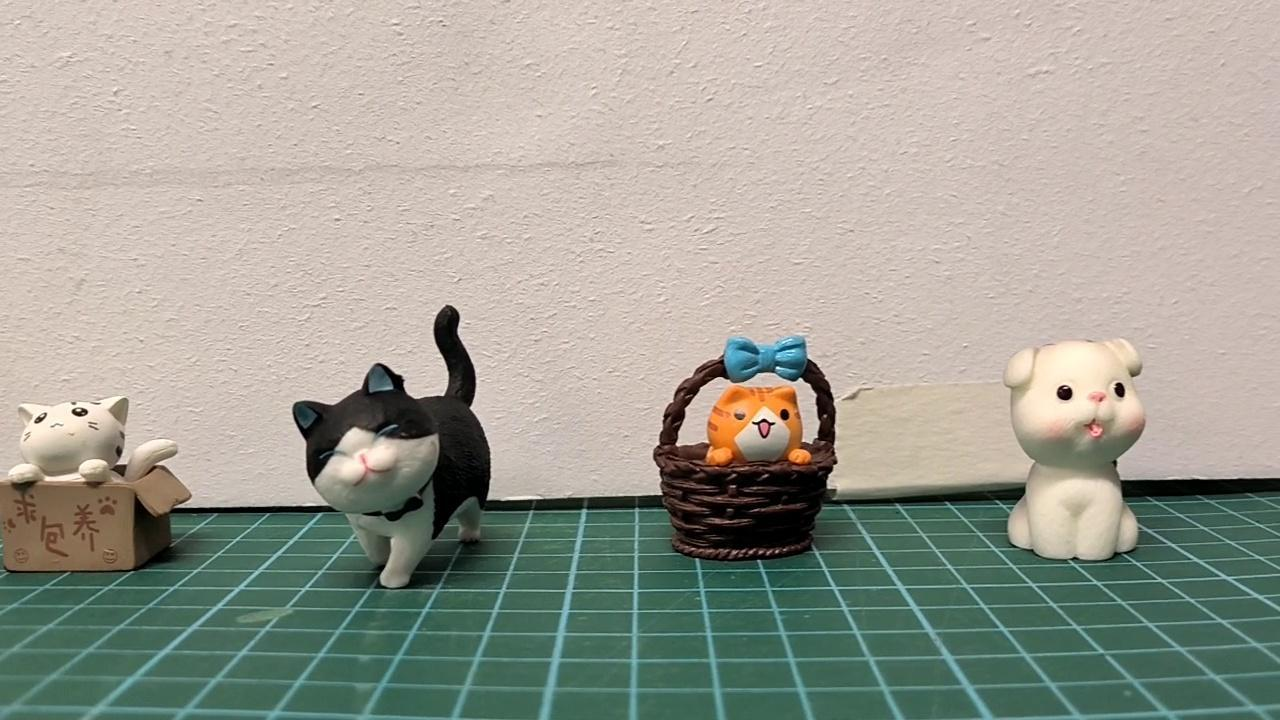pet: (291, 303, 491, 593), (1003, 336, 1151, 562), (8, 391, 180, 489), (706, 379, 809, 469)
